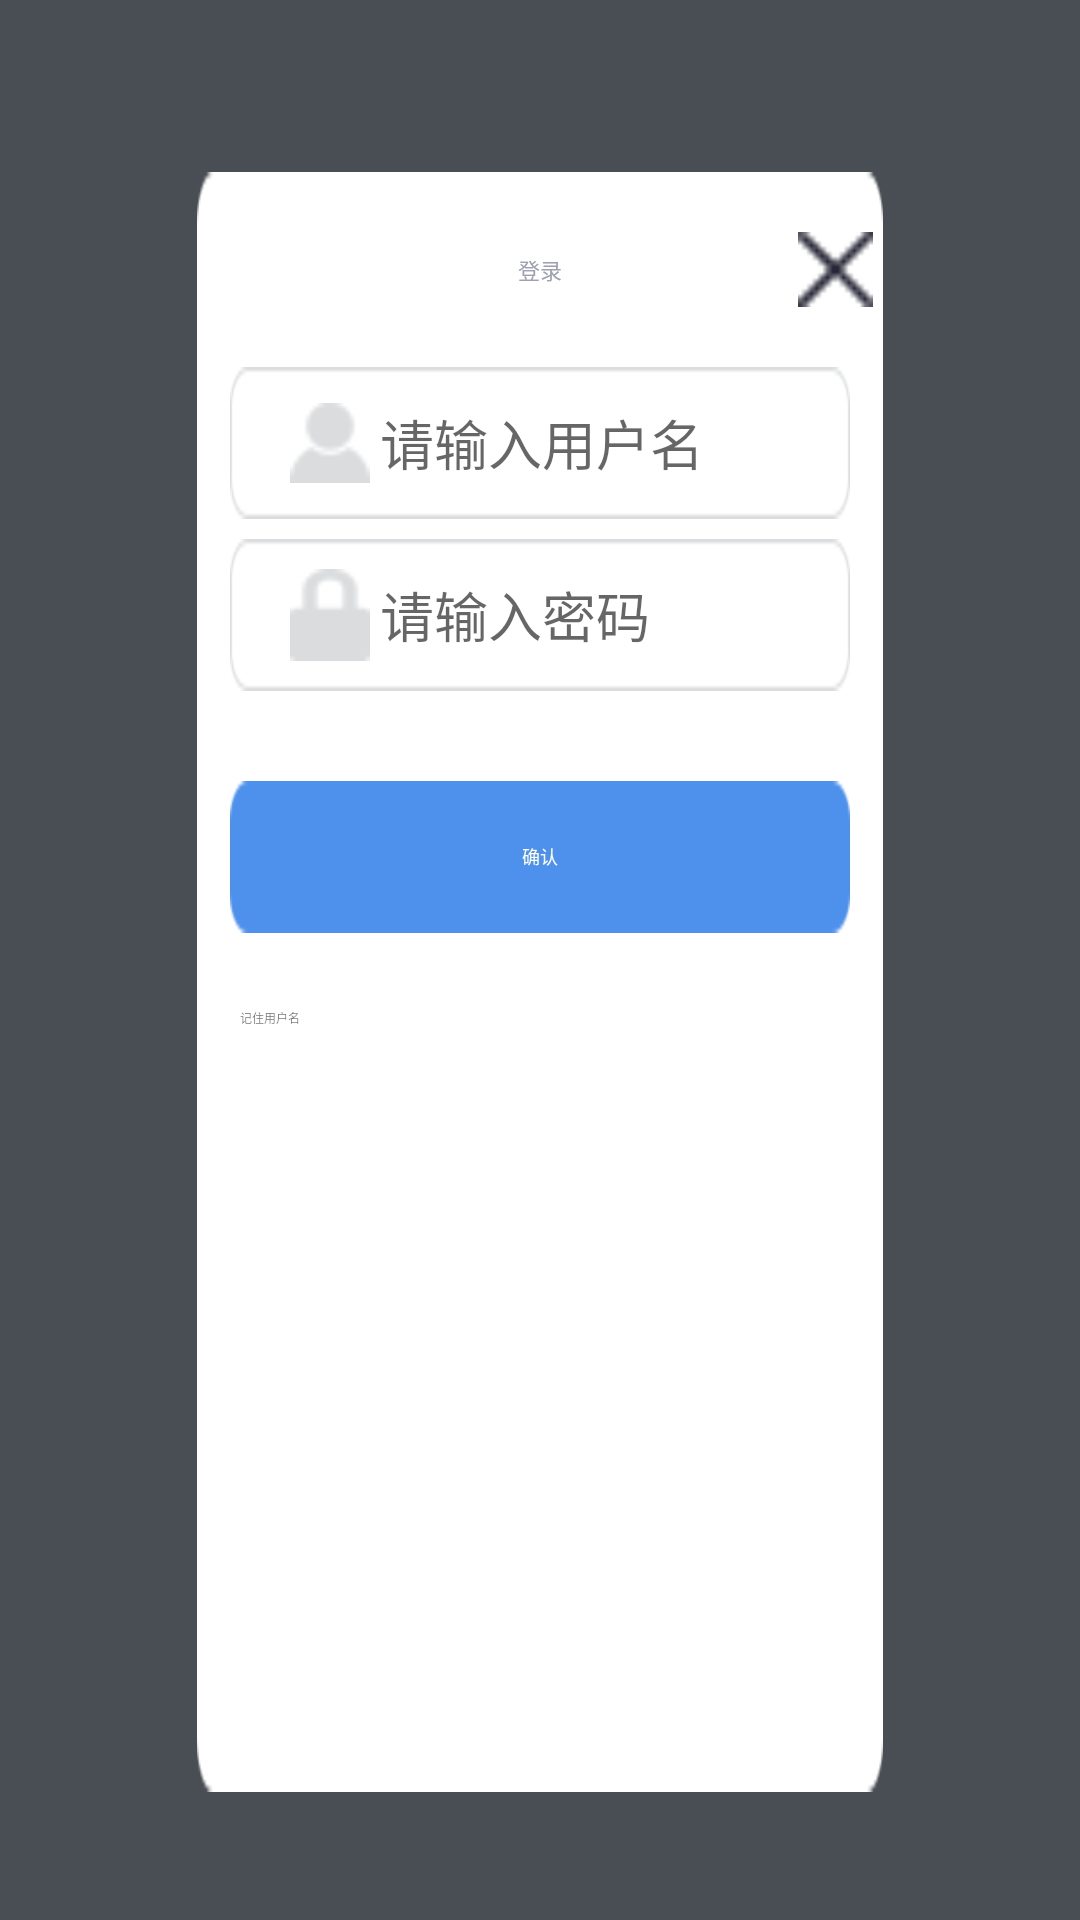

Named icons in this screenshot (1080 × 1920) and their centers, (x,y):
password: (330,615)
user: (330,443)
